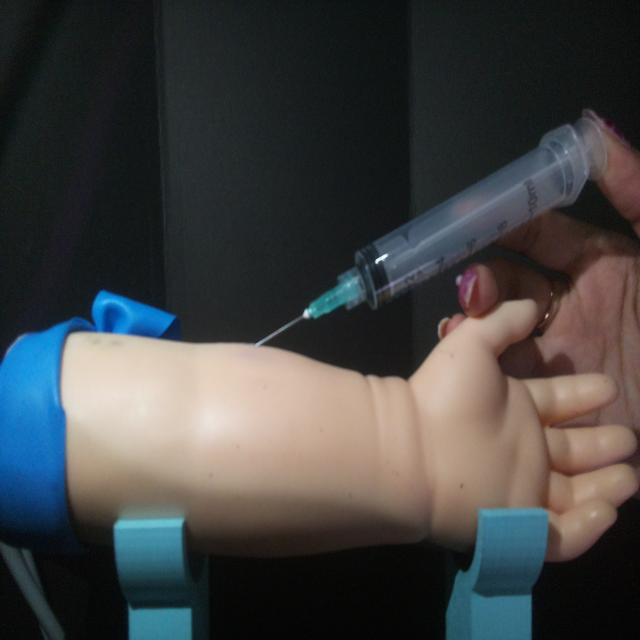28deg: (249, 106, 611, 351)
